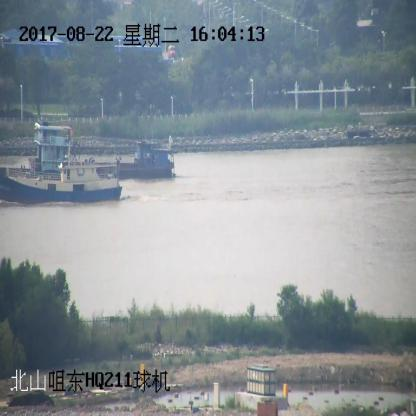Fishing Boat: (0, 133, 123, 205)
